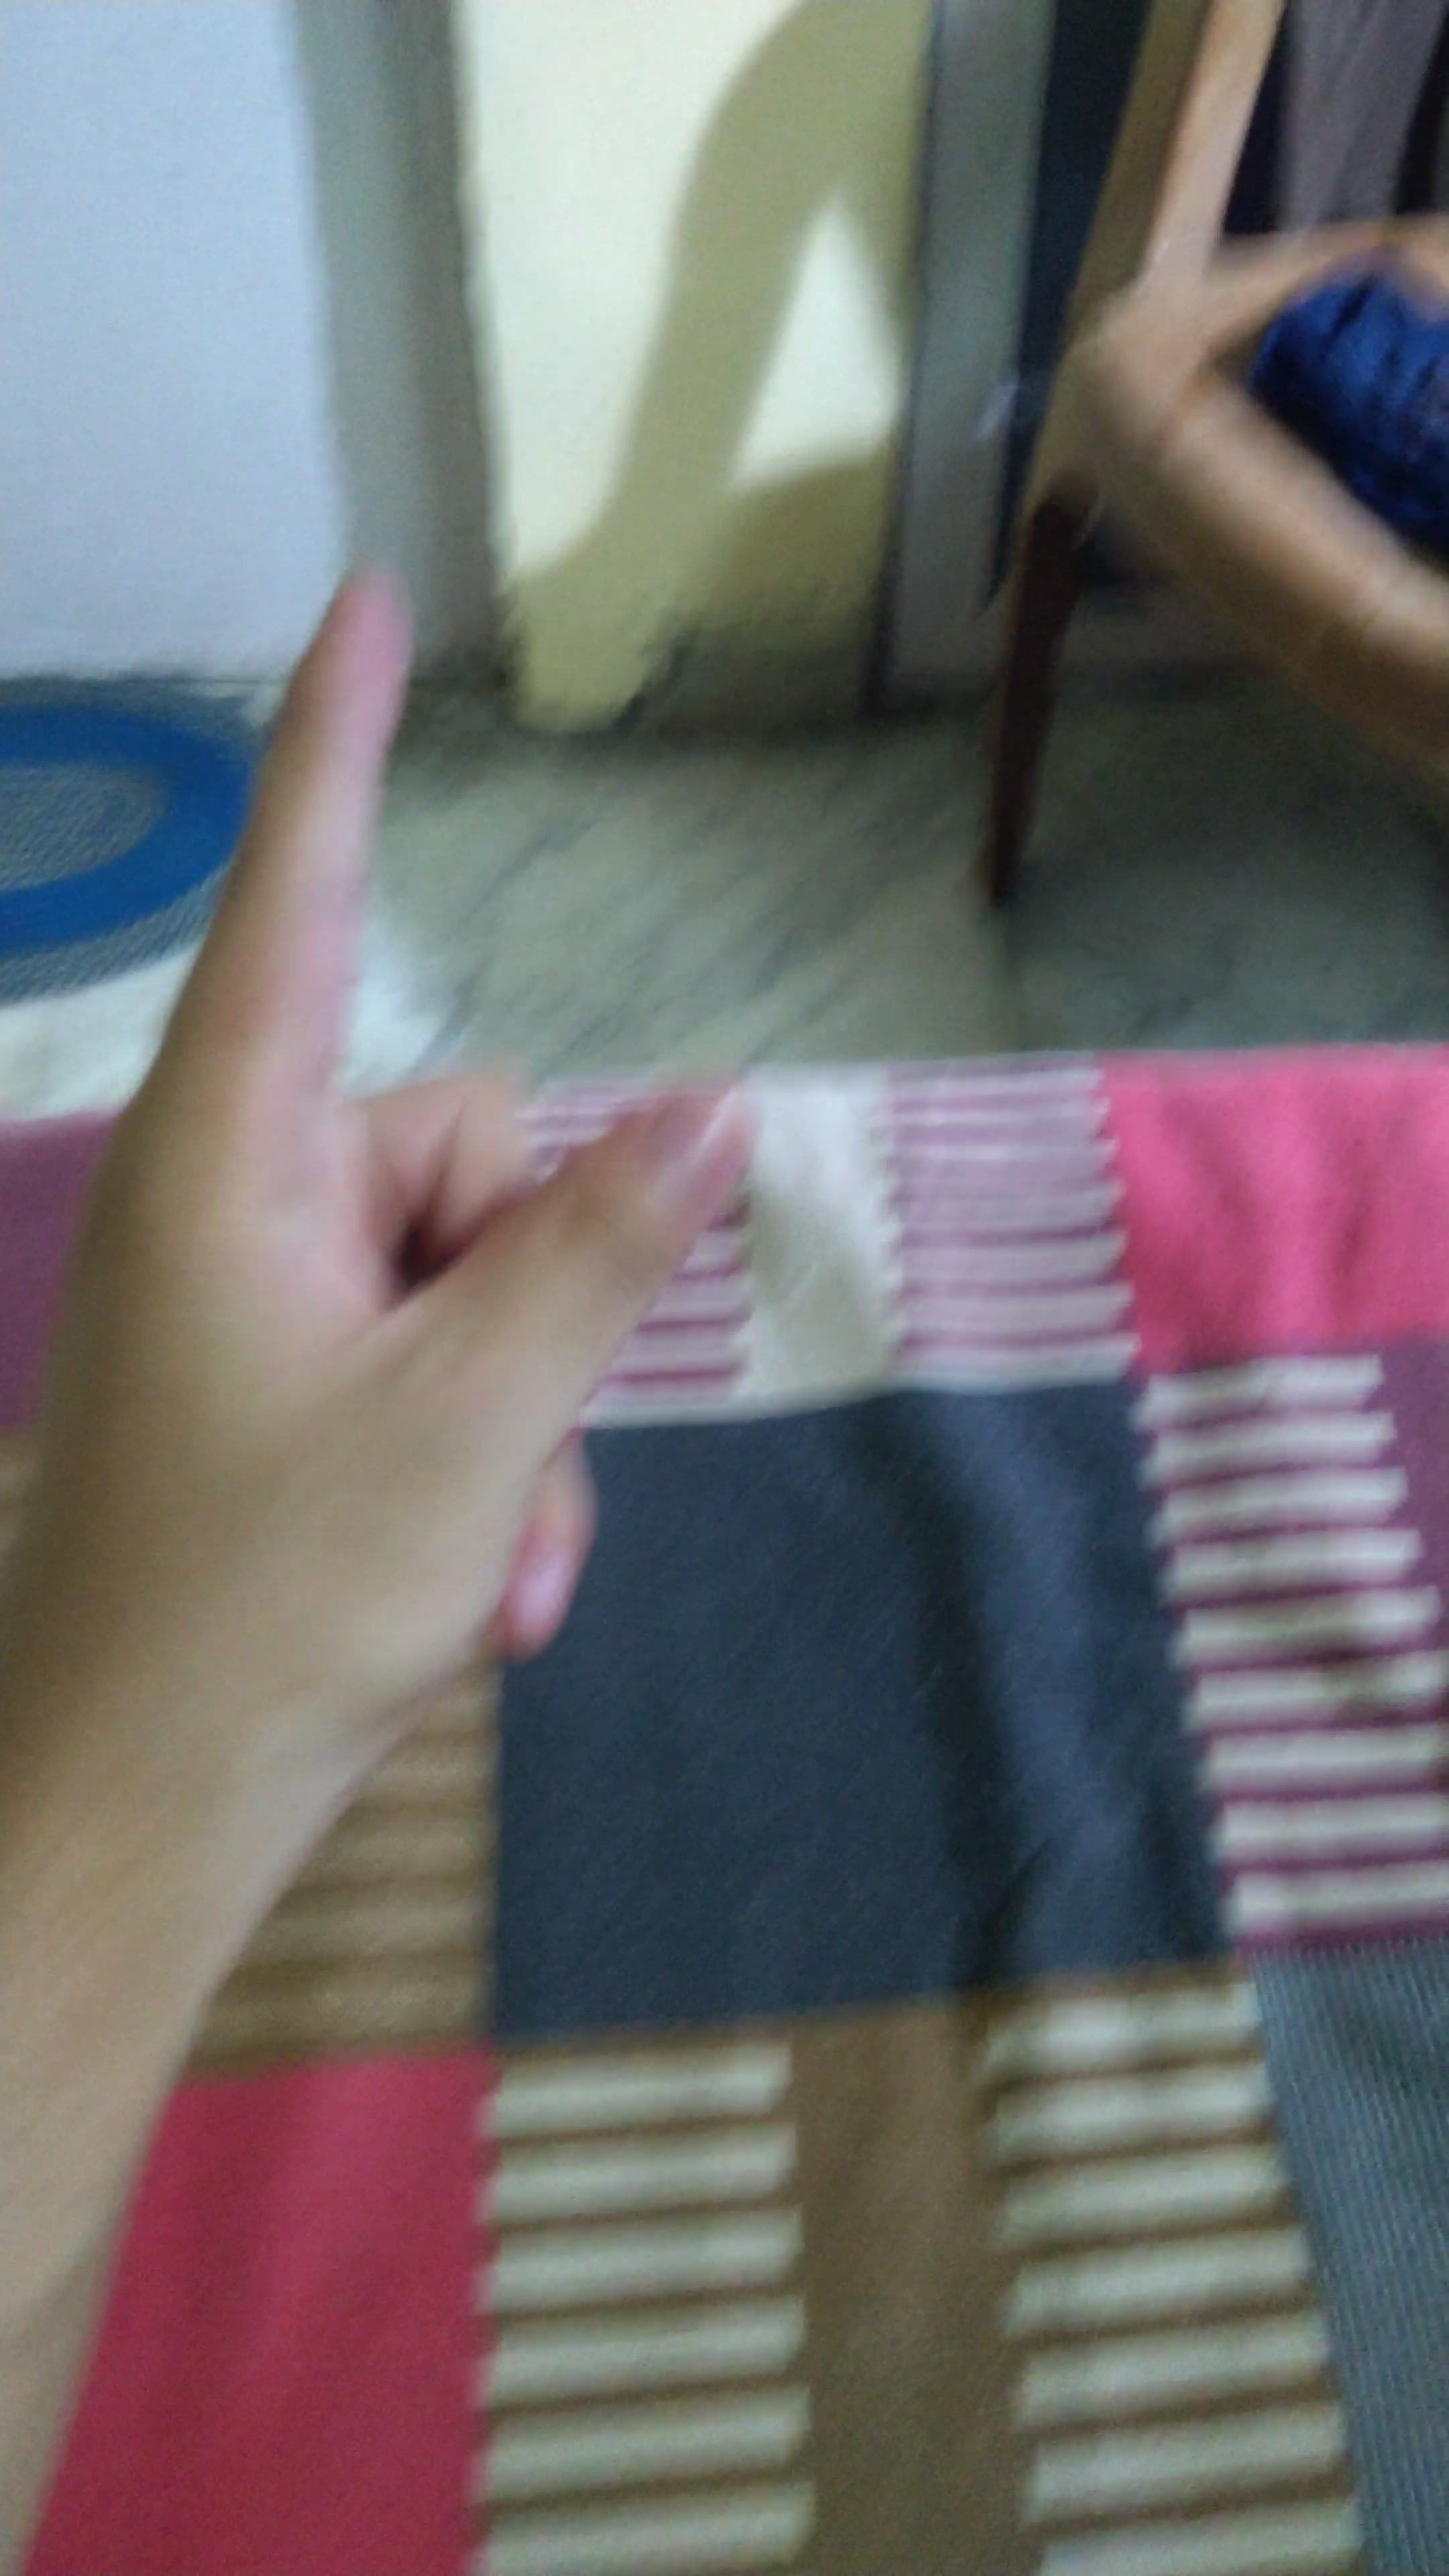hand: (27, 531, 745, 1752)
